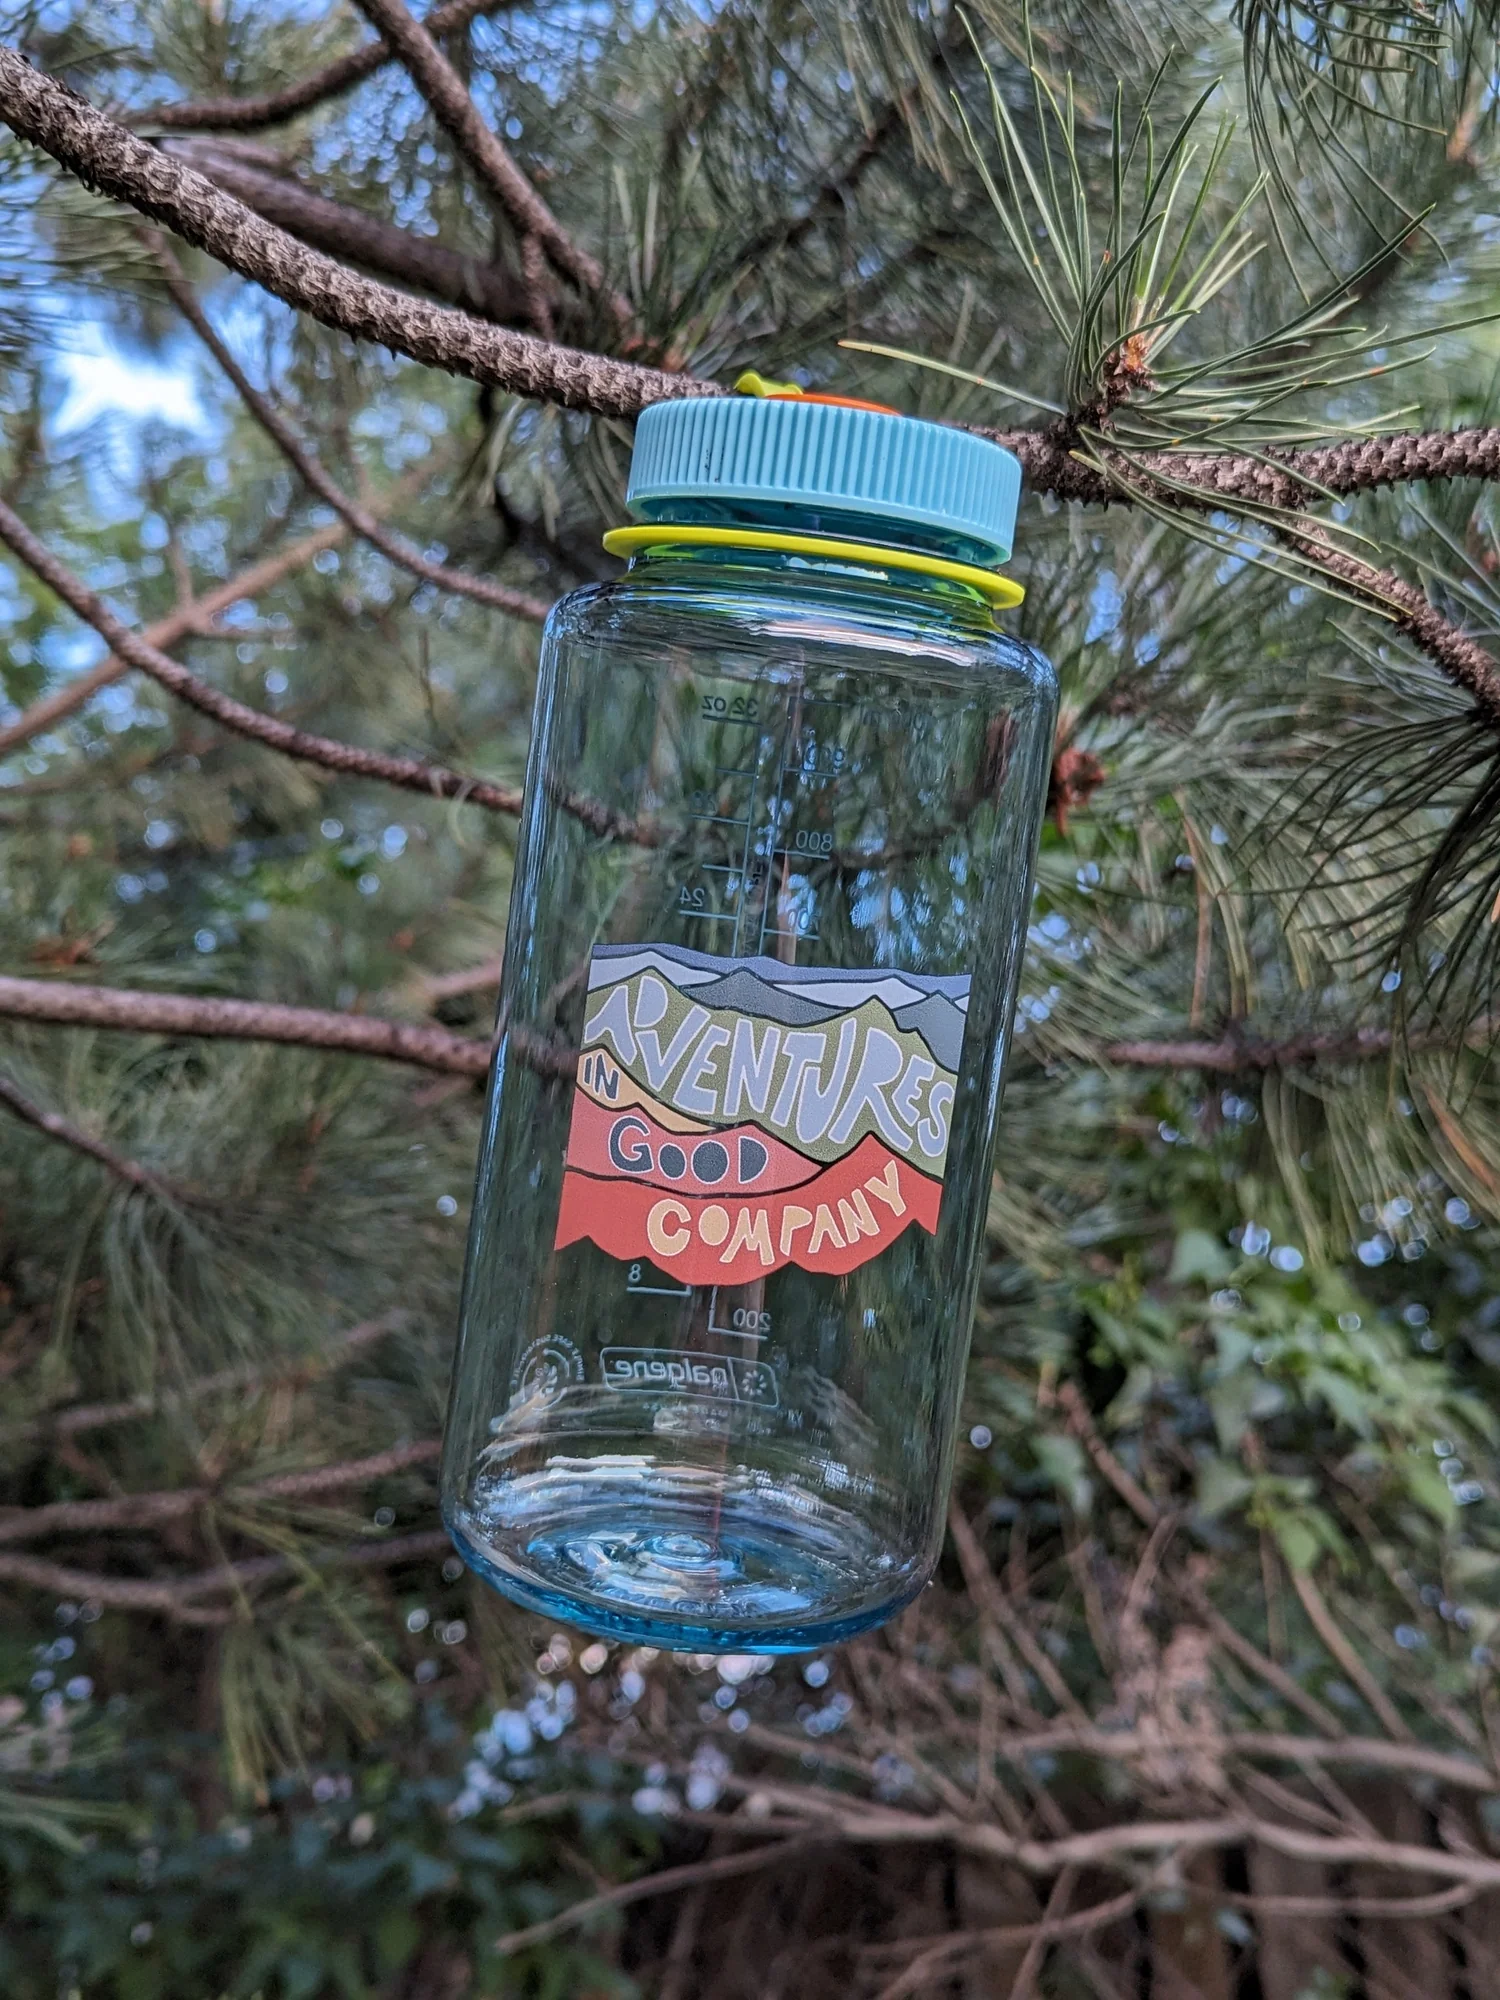bottle: (436, 364, 1061, 1661)
